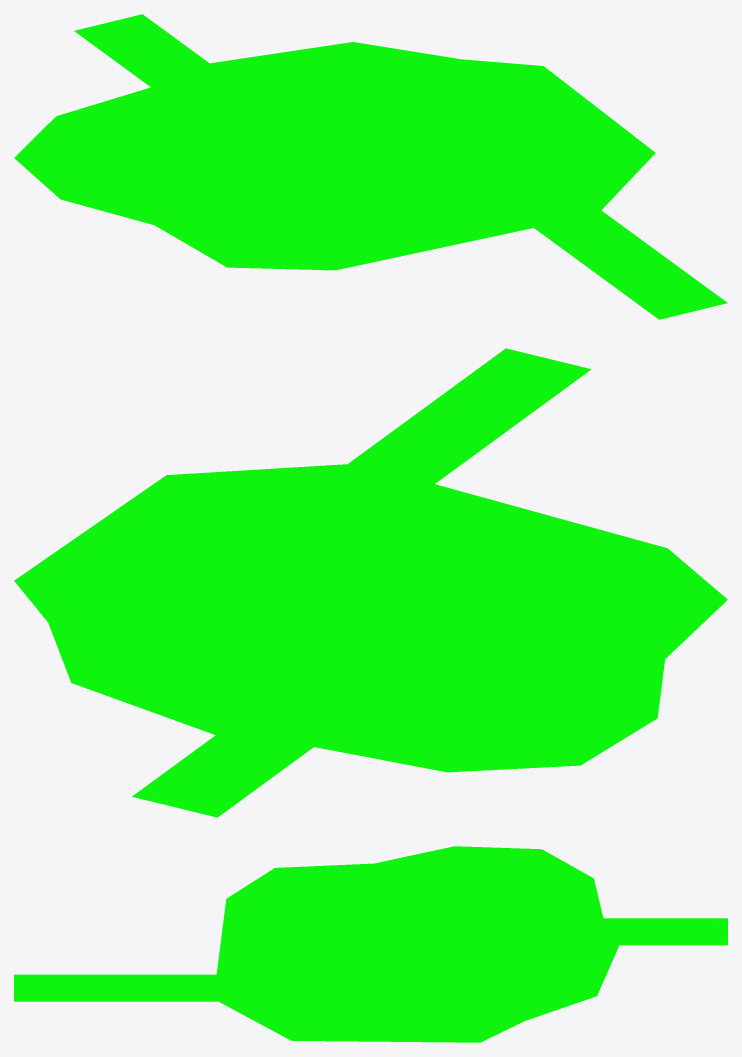
File: s03b_ib1-floor.glb
The picture shows the model from 3 angles, top to bottom: view 1: azimuth 30°, elevation 25°; view 2: azimuth 150°, elevation 25°; view 3: azimuth 270°, elevation 25°; orthographic projection. The views are drawn at different scales.
Visible parts, largest first — view 1: collision_floor-colonly; view 2: collision_floor-colonly; view 3: collision_floor-colonly.
Boxes of the visible parts, box(x1,y1,x2,y2) form: collision_floor-colonly: box(14, 14, 727, 319); collision_floor-colonly: box(14, 348, 727, 817); collision_floor-colonly: box(14, 846, 727, 1042).
Size of the model in its own units: 43.6 by 0.4688 by 66.95.
